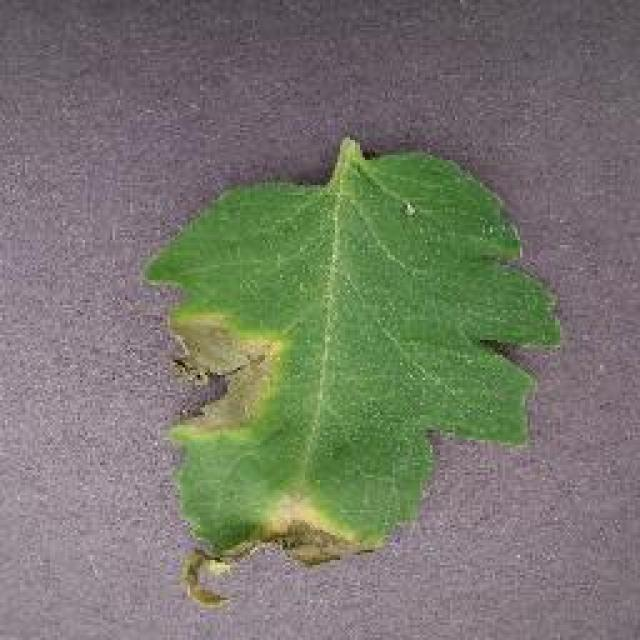Tomato late blight leaf: (149, 137, 561, 605)
